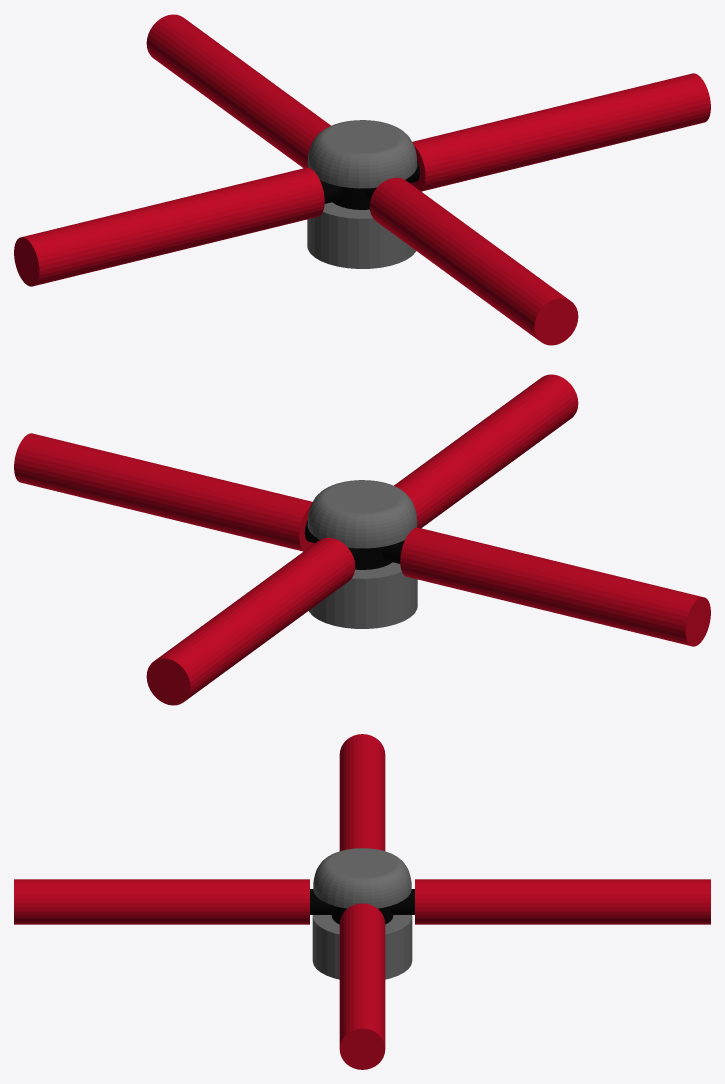
Rendered from Obstacle_02.fbx.
3 renders of one model, top to bottom at view 1: azimuth 30°, elevation 25°; view 2: azimuth 150°, elevation 25°; view 3: azimuth 270°, elevation 25°, orthographic. The views are drawn at different scales.
Parts seen in each view (by area): view 1: Circle.003, Circle.006, Circle.005, Circle.002, Circle.007; view 2: Circle.003, Circle.006, Circle.007, Circle.002, Circle.005; view 3: Circle.005, Circle.007, Circle.002, Circle.006, Circle.003.
Part boxes in pixels (left/top/right/bottom): Circle.003: left=14, top=167, right=342, bottom=286; Circle.006: left=405, top=73, right=710, bottom=191; Circle.005: left=365, top=177, right=578, bottom=345; Circle.002: left=307, top=120, right=417, bottom=268; Circle.007: left=146, top=14, right=330, bottom=168; Circle.003: left=382, top=527, right=710, bottom=646; Circle.006: left=14, top=433, right=319, bottom=551; Circle.007: left=146, top=537, right=359, bottom=705; Circle.002: left=307, top=480, right=417, bottom=628; Circle.005: left=394, top=374, right=578, bottom=528; Circle.005: left=14, top=879, right=334, bottom=924; Circle.007: left=390, top=879, right=710, bottom=924; Circle.002: left=312, top=848, right=412, bottom=979; Circle.006: left=339, top=903, right=385, bottom=1069; Circle.003: left=339, top=734, right=385, bottom=850.
Bounding box in the file's own units: 1400 × 216 × 1400.
